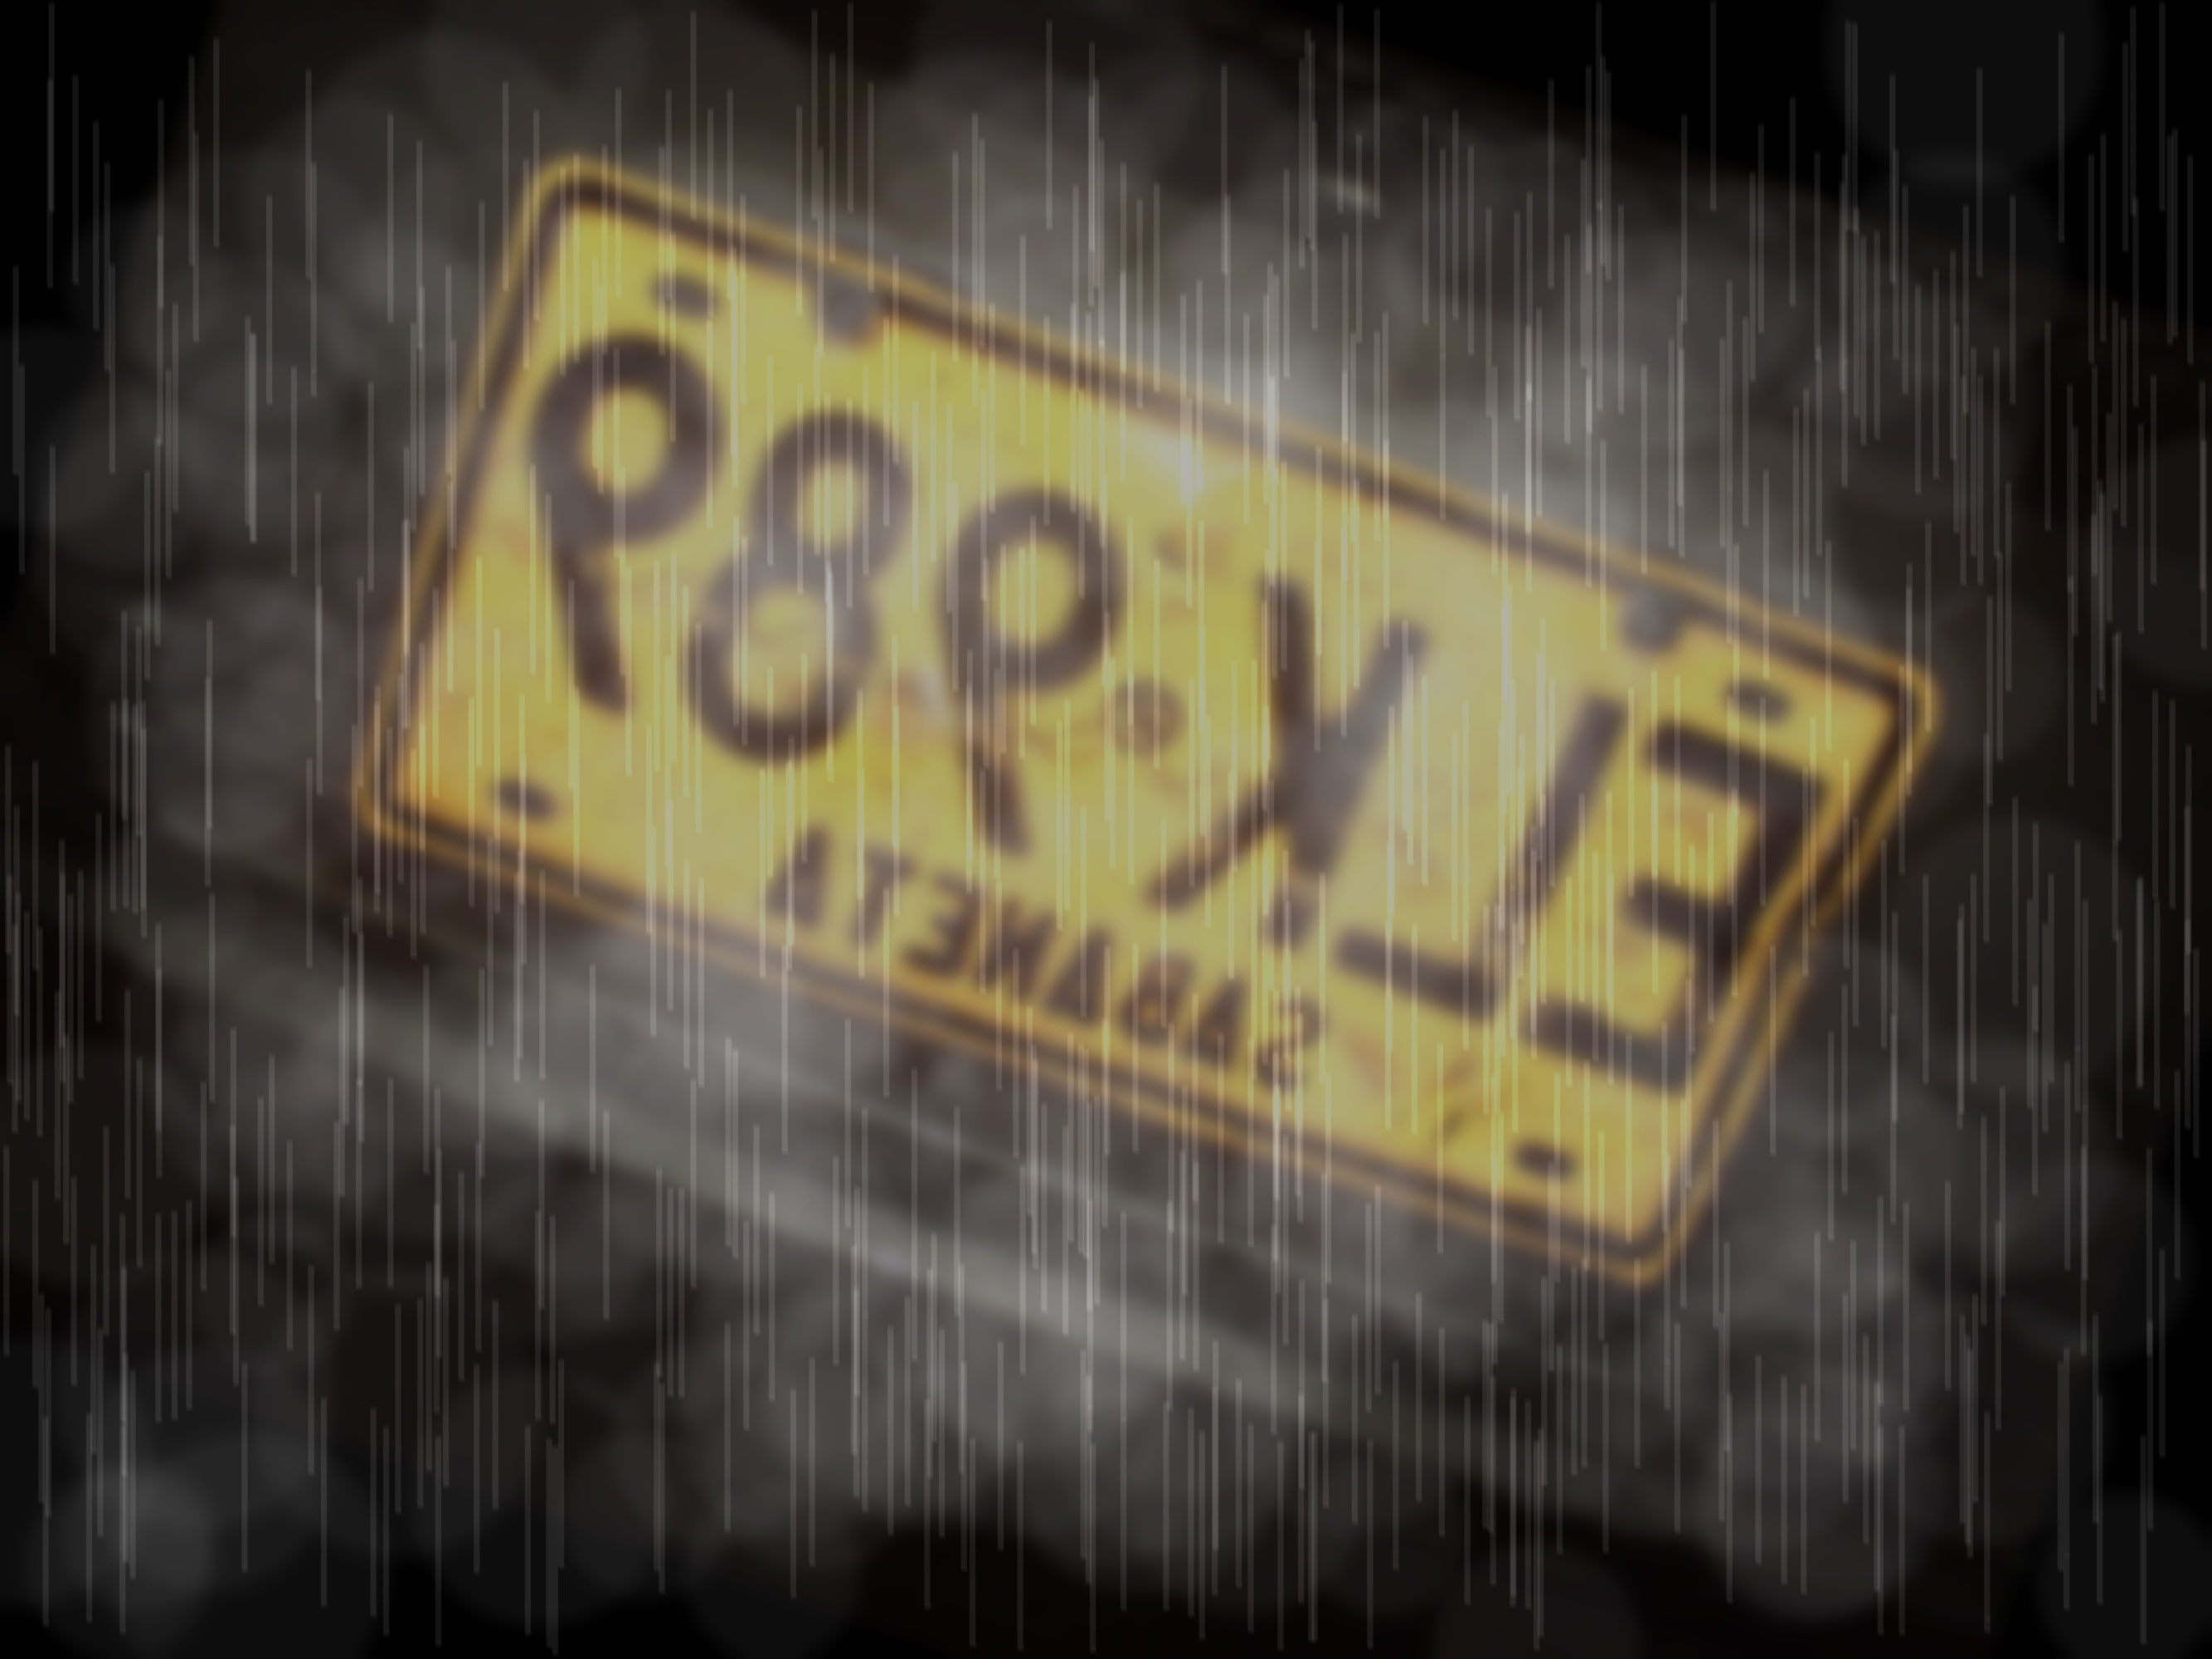placas: (306, 142, 1976, 1325)
